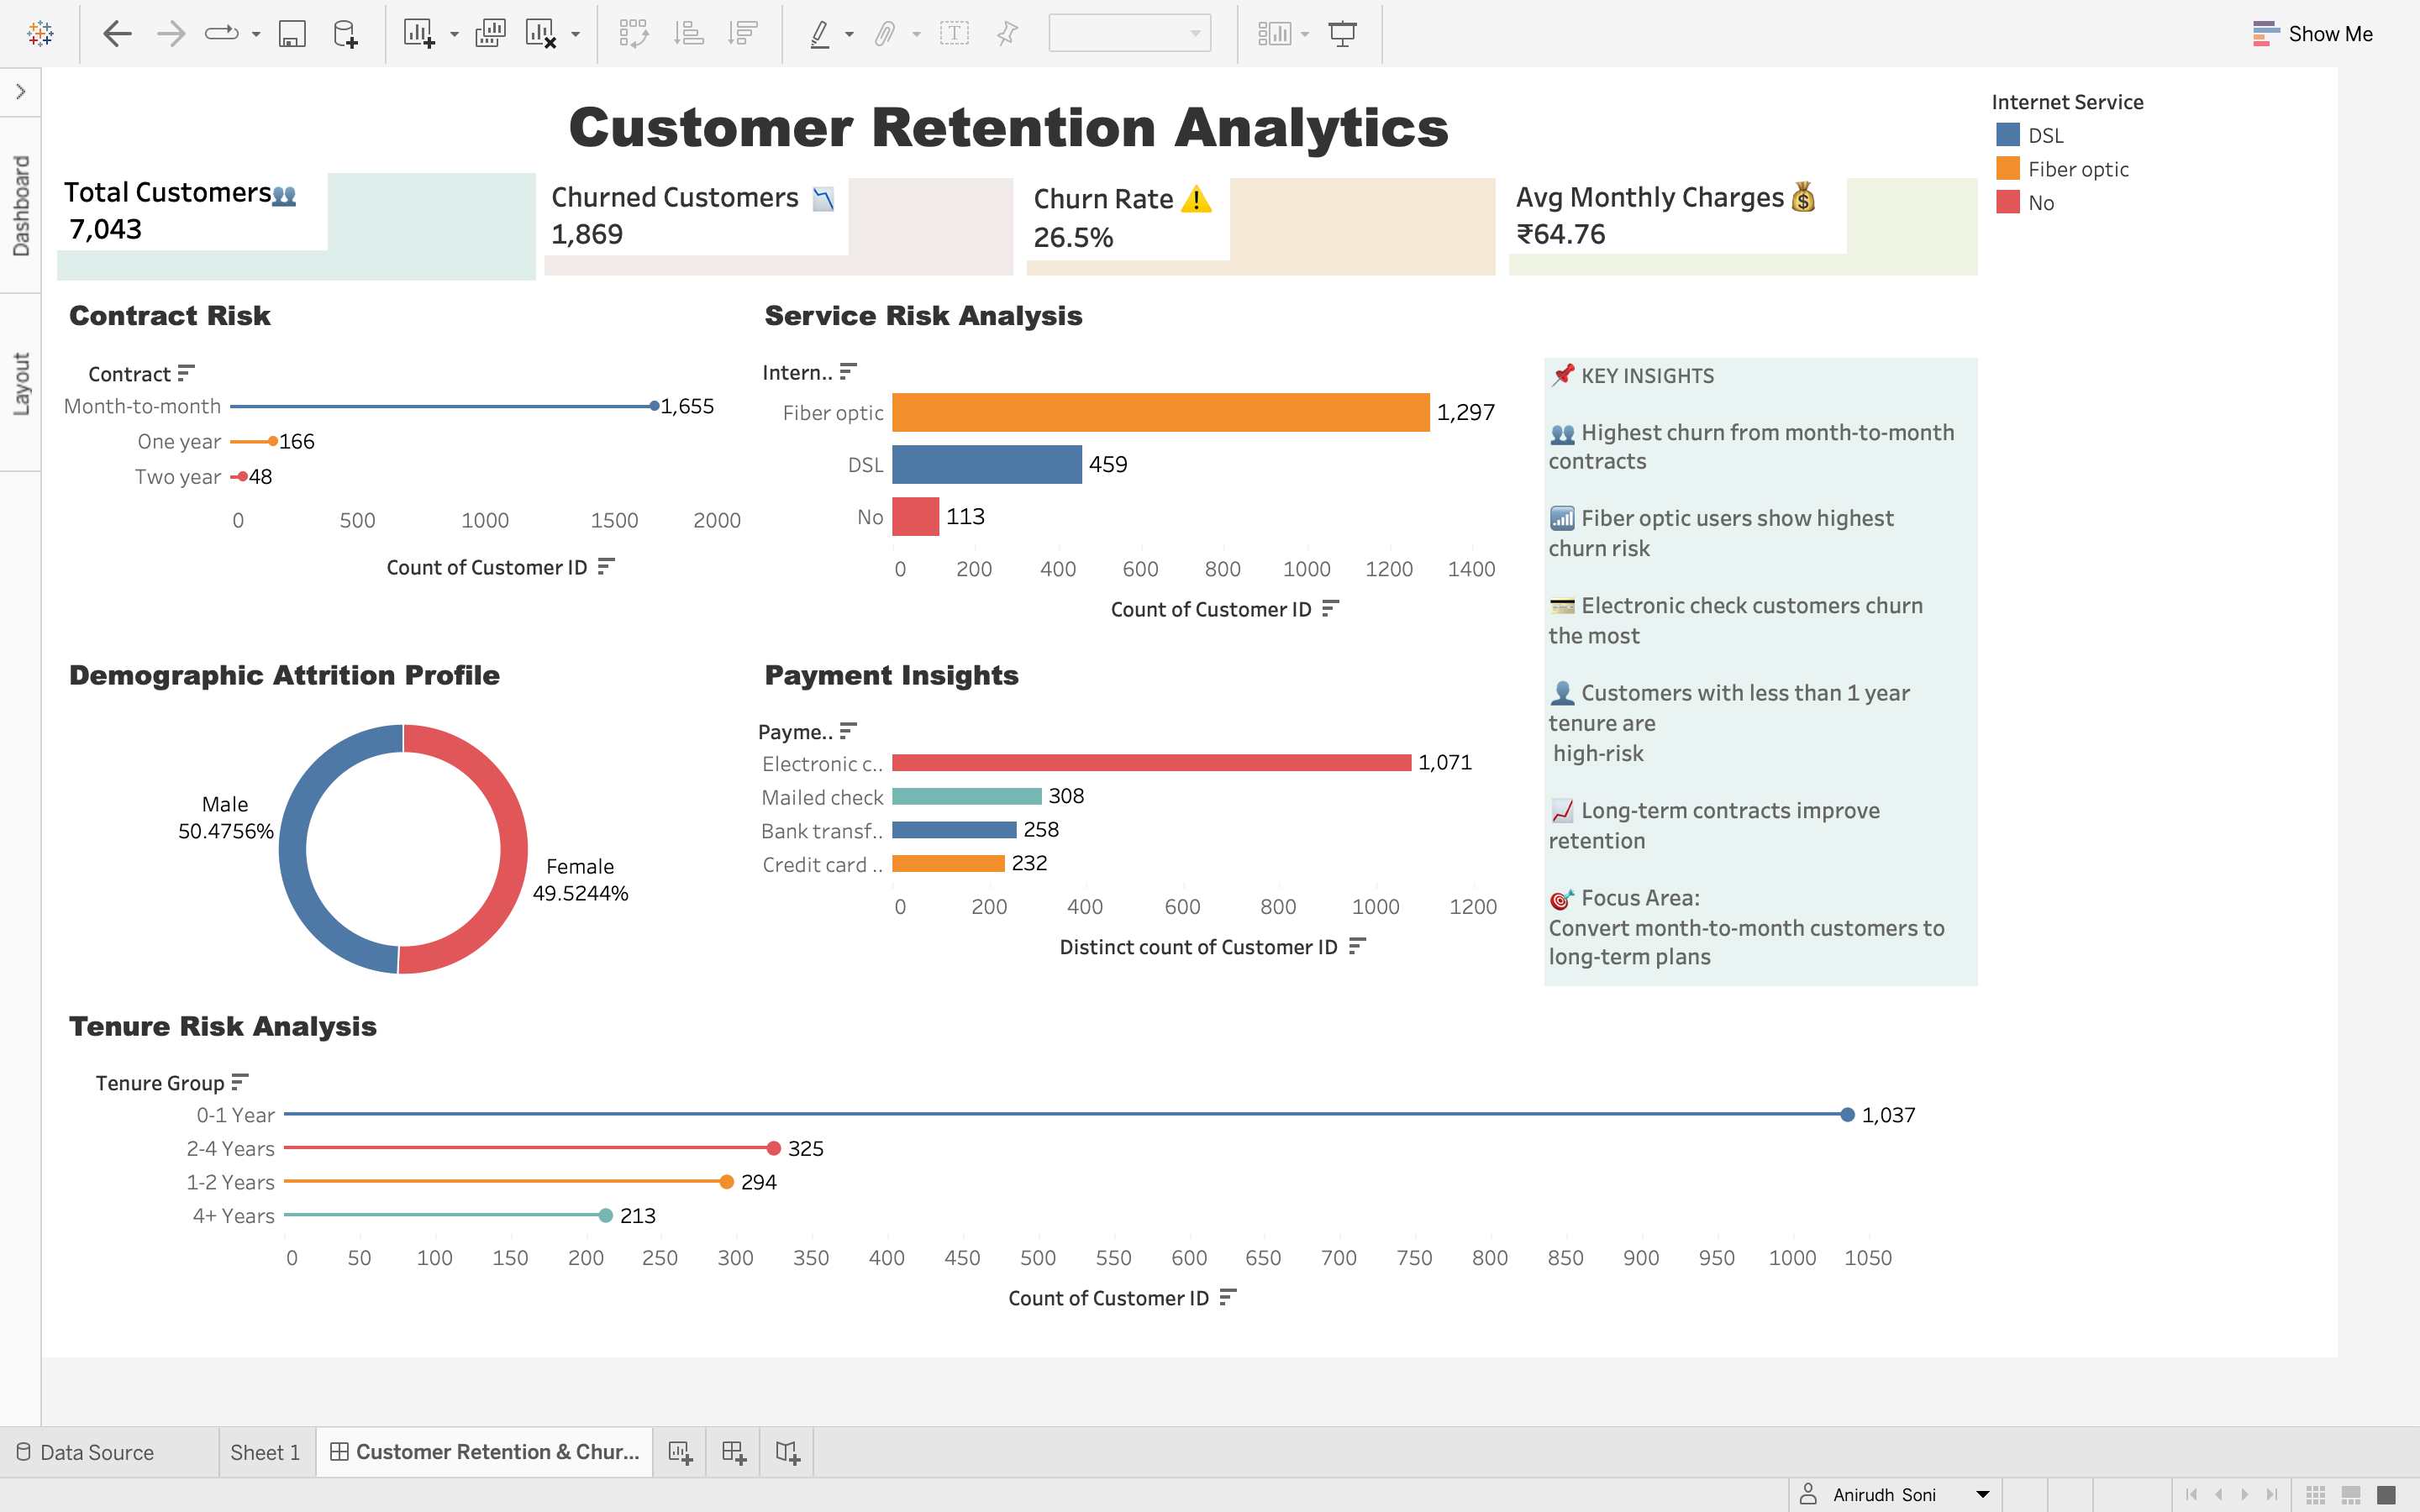

The page's visual inventory and layout, read from the dashboard file:
{"tool":"tableau","page":{"name":"Customer Retention & Churn Insights Dashboard","canvas":[1366,768],"ordinal":0},"visuals":[{"type":"title","box":[8,8,1148,54]},{"type":"legend","title":"Churn by Internet Service","param":"[federated.1rj53j90izginh13hpkcu0sl0o0s].[none:InternetService:nk]","box":[1156,8,202,86]},{"type":"worksheet","title":"Total Customers","mark":"Text","box":[8,62,287,66]},{"type":"worksheet","title":"Total Churned","mark":"Text","box":[295,62,287,66]},{"type":"worksheet","title":"Churn Rate","mark":"Text","box":[582,62,287,66]},{"type":"worksheet","title":"Avg Monthly Charges","mark":"Text","box":[869,62,287,66]},{"type":"worksheet","title":"Churn by Contract Type","mark":"Automatic","rows":["Contract"],"cols":["customerID","customerID"],"box":[8,128,413.8,214.3]},{"type":"worksheet","title":"Churn by Internet Service","mark":"Automatic","rows":["InternetService"],"cols":["customerID"],"box":[421.8,128,468.2,213.9]},{"type":"text","box":[890,168.7,266,382.3]},{"type":"worksheet","title":"Churn by Payment Method","mark":"Automatic","rows":["PaymentMethod"],"cols":["customerID"],"box":[421.8,341.9,468.2,209]},{"type":"worksheet","title":"Churn by Gender","mark":"Pie","rows":["Calculation_4621183110049803","Calculation_4621183110049803"],"box":[8,342.3,413.8,208.7]},{"type":"worksheet","title":"Churn by Tenure Group","mark":"Automatic","rows":["Calculation_4621181789597697"],"cols":["customerID","customerID"],"box":[8,551,1148,209]}]}

Visuals, with their boxes on the page's 1366x768 design canvas (x1, y1, x2, y2). These are canvas units, not pixel positions in the 2420x1512 screenshot, which may show the page scaled, cropped or inside an application window:
title: select_region(8, 8, 1156, 62)
"Churn by Internet Service" legend: select_region(1156, 8, 1358, 94)
"Total Customers" worksheet (Text marks): select_region(8, 62, 295, 128)
"Total Churned" worksheet (Text marks): select_region(295, 62, 582, 128)
"Churn Rate" worksheet (Text marks): select_region(582, 62, 869, 128)
"Avg Monthly Charges" worksheet (Text marks): select_region(869, 62, 1156, 128)
"Churn by Contract Type" worksheet: select_region(8, 128, 422, 342)
"Churn by Internet Service" worksheet: select_region(422, 128, 890, 342)
text: select_region(890, 169, 1156, 551)
"Churn by Payment Method" worksheet: select_region(422, 342, 890, 551)
"Churn by Gender" worksheet (Pie marks): select_region(8, 342, 422, 551)
"Churn by Tenure Group" worksheet: select_region(8, 551, 1156, 760)
